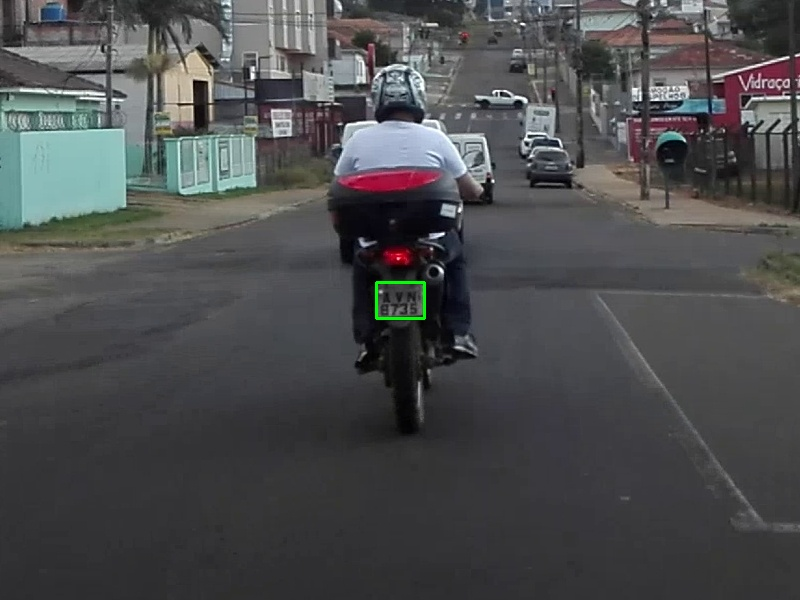placa: (376, 282, 424, 318)
